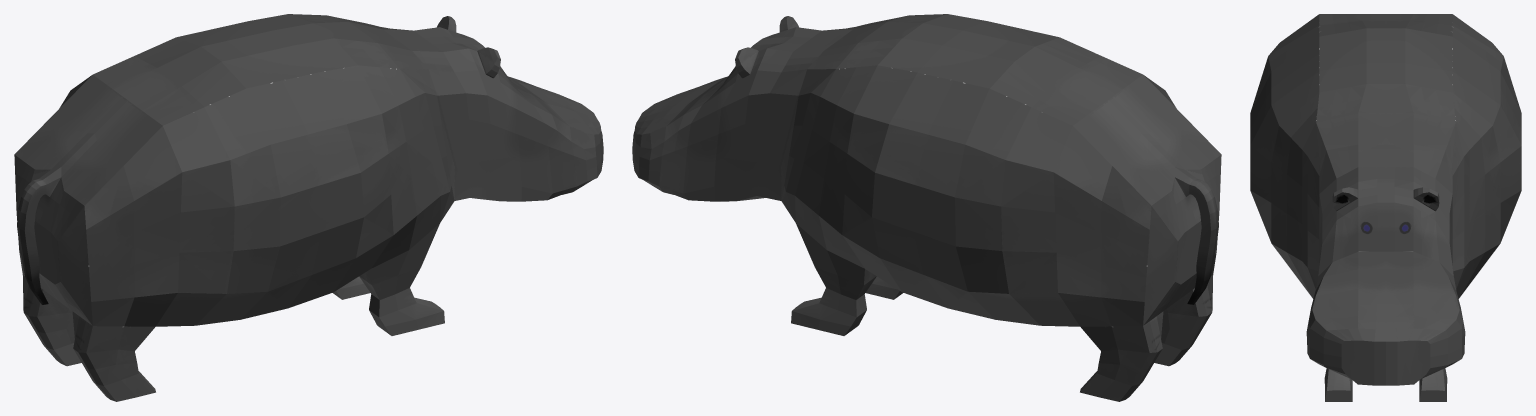
The model's file is hippo.fbx.
The picture shows the model from 3 angles, left to right: view 1: azimuth 30°, elevation 25°; view 2: azimuth 150°, elevation 25°; view 3: azimuth 270°, elevation 25°; orthographic projection. The views are drawn at different scales.
Parts seen in each view (by area): view 1: Plane; view 2: Plane; view 3: Plane.
Part boxes in pixels (bbox=[...]): Plane: bbox=[14, 14, 603, 401]; Plane: bbox=[632, 14, 1221, 401]; Plane: bbox=[1250, 14, 1521, 401].
Size of the model in its own units: 371 by 183 by 161.
1 material, 1 textured.
